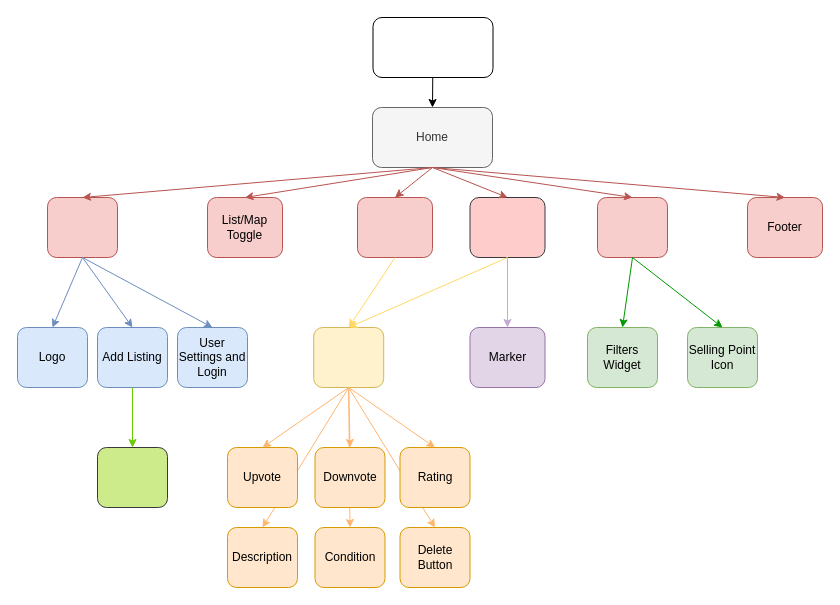
Some shapes in this 840 by 605 pixel diagram are drawn without their labels. Each missing label, with the centre of its shape:
App: [432,47]
Entry Form: [132,477]
Icon Filter Strip: [632,227]
List View: [394,227]
Listing: [348,357]
Map View: [507,227]
Nav: [82,227]
